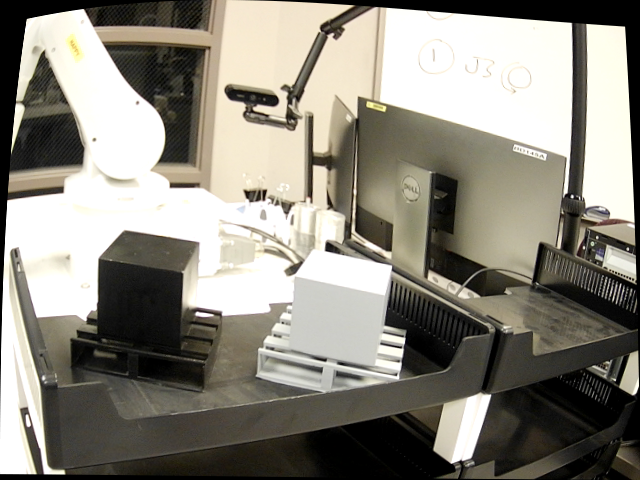black pallet: (67, 229, 228, 396)
white pallet: (250, 243, 411, 402)
